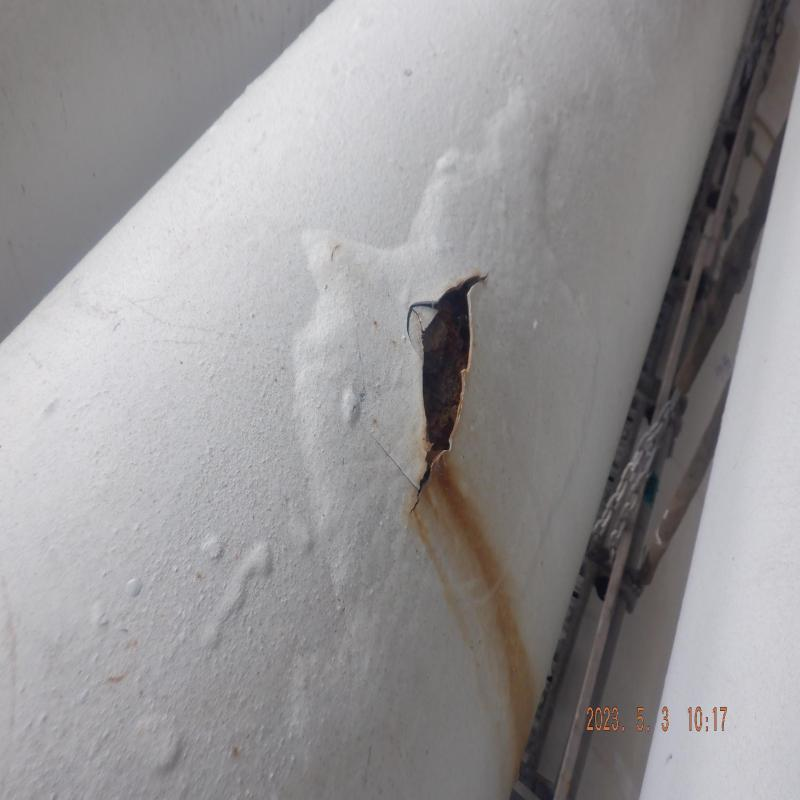corrosion: (415, 281, 477, 477)
